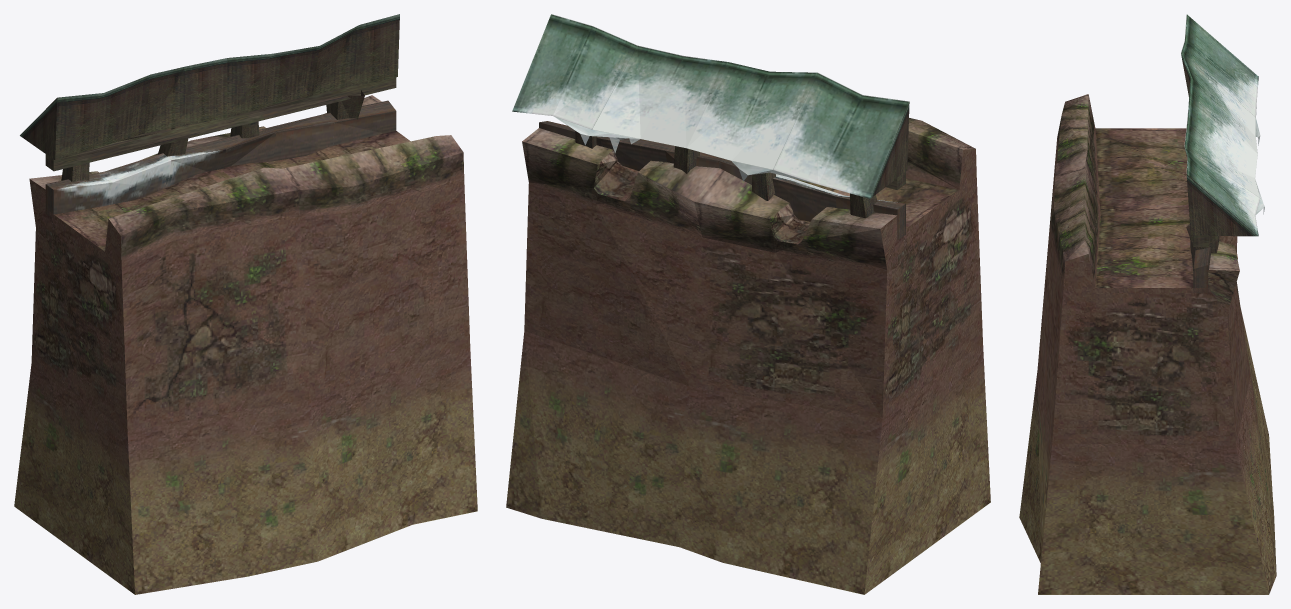
File: C1SMWA10SNH.obj
3 renders of one model, left to right at view 1: azimuth 30°, elevation 25°; view 2: azimuth 150°, elevation 25°; view 3: azimuth 270°, elevation 25°, orthographic. The views are drawn at different scales.
Parts seen in each view (by area): view 1: Node 0; view 2: Node 0; view 3: Node 0.
Boxes of the visible parts, x1,y1,x2,y2 form: Node 0: (14, 14, 477, 594); Node 0: (506, 14, 990, 594); Node 0: (1019, 14, 1276, 594).
Bounding box in the file's own units: 10 × 12.54 × 6.8.
Materials: 4 (4 with a texture image).
